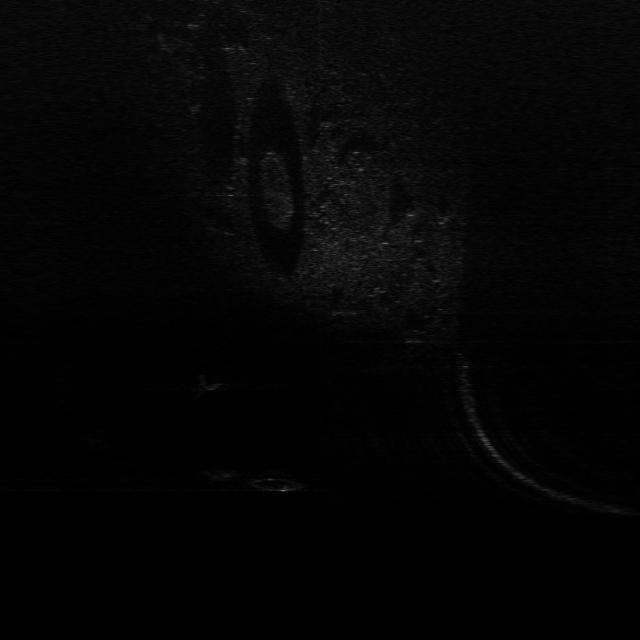cube: (200, 466, 240, 484)
square cage: (193, 372, 226, 392)
tyre: (247, 470, 307, 492)
